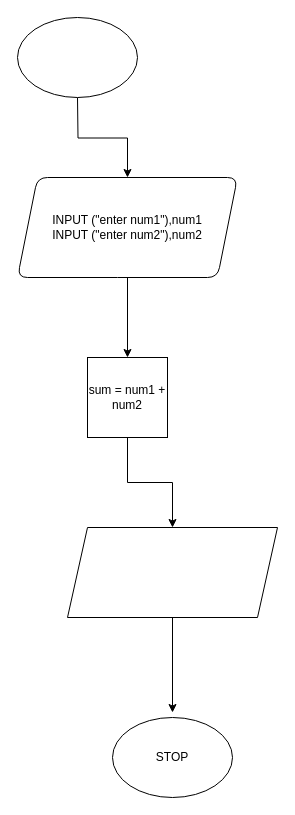
Some shapes in this 295 by 815 pixel diagram are drawn without their labels. The centre of each missing label's shape, as x and y in pixels:
PRINT ("the sum of both numbers is:",sum): pixel 172 572
START: pixel 77 57
